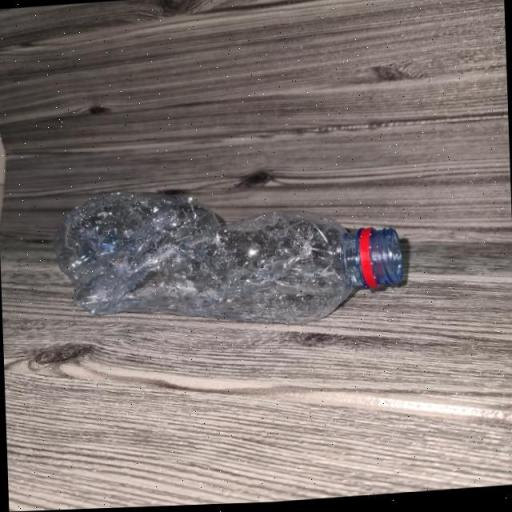plastic: (46, 170, 412, 344)
